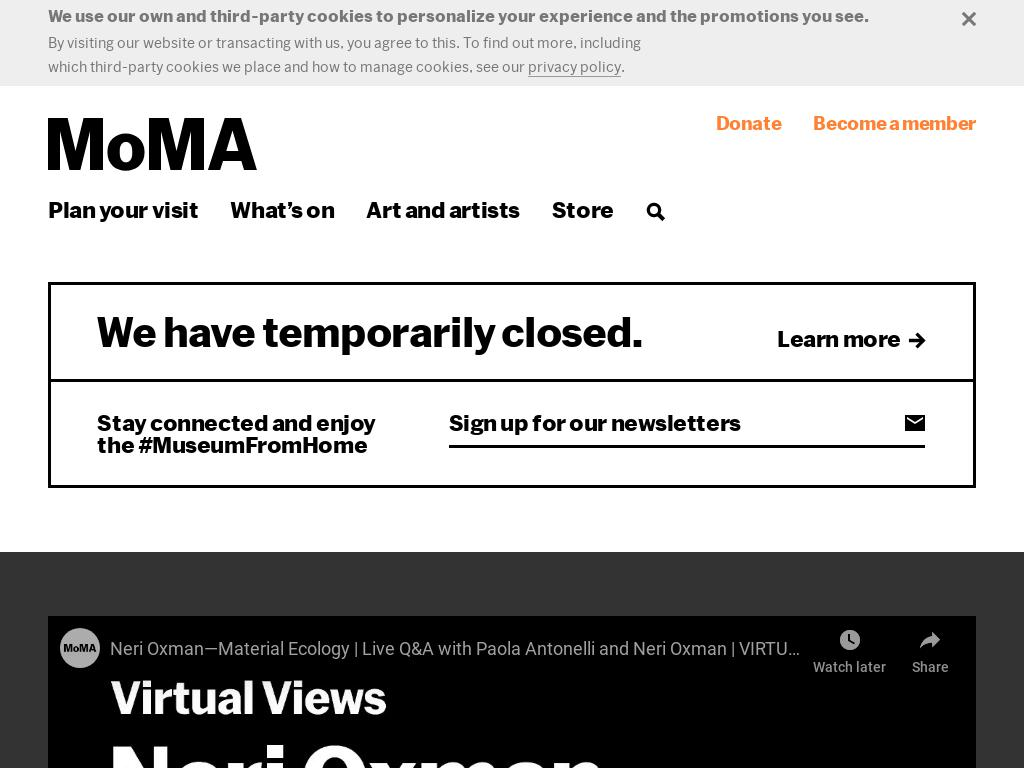button: (91, 309, 651, 356), (40, 110, 265, 179), (358, 194, 528, 226), (40, 194, 207, 226), (805, 110, 984, 138), (222, 194, 343, 226), (543, 194, 622, 226), (707, 110, 790, 138), (524, 58, 625, 77), (637, 194, 674, 230), (954, 4, 984, 34)
field: (444, 408, 901, 437)
heading: (96, 311, 644, 352), (48, 118, 257, 171)
iframe: (48, 615, 976, 768)
image: (905, 329, 928, 352), (904, 413, 925, 434), (645, 202, 666, 222), (962, 12, 976, 26)
text: (48, 34, 641, 75), (48, 0, 869, 22), (97, 408, 377, 435), (97, 430, 368, 457), (366, 195, 520, 223), (48, 195, 199, 223), (813, 111, 976, 135), (230, 190, 335, 218), (777, 325, 844, 352), (551, 190, 614, 218), (715, 111, 782, 135), (842, 325, 901, 352), (621, 58, 625, 75)
